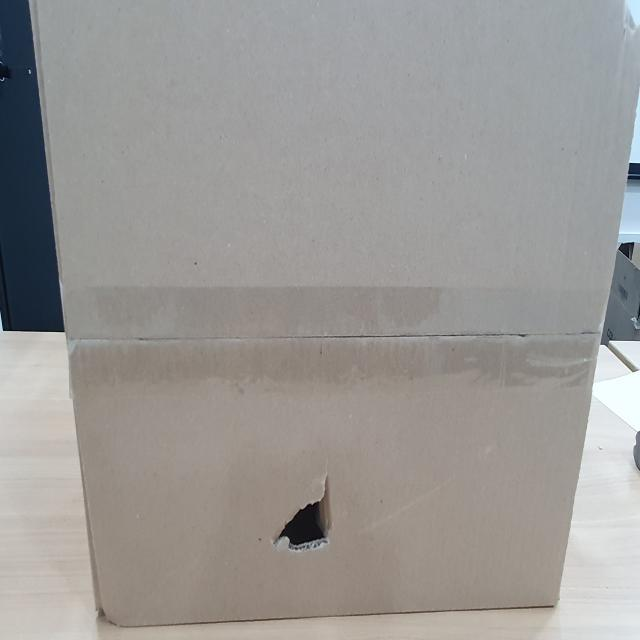hole: (275, 481, 339, 567)
